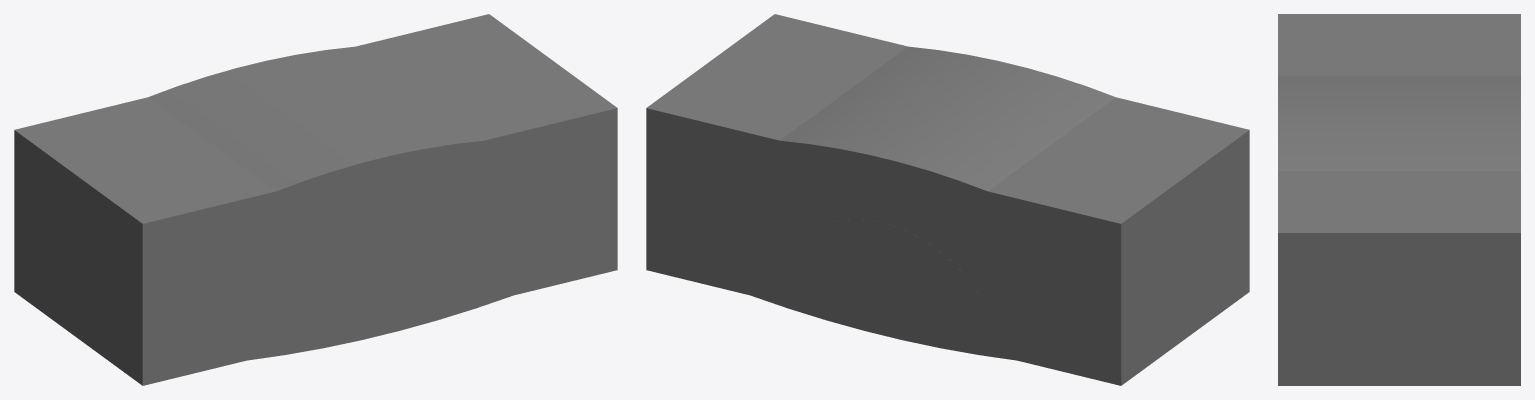
3 renders of one model, left to right at view 1: azimuth 30°, elevation 25°; view 2: azimuth 150°, elevation 25°; view 3: azimuth 270°, elevation 25°, orthographic. The views are drawn at different scales.
Visible parts, largest first — view 1: mesh_id4, mesh_id5; view 2: mesh_id4, mesh_id5; view 3: mesh_id4, mesh_id5.
Boxes of the visible parts, x1,y1,x2,y2 form: mesh_id4: (14, 14, 617, 385); mesh_id5: (148, 46, 513, 360); mesh_id4: (646, 14, 1249, 385); mesh_id5: (750, 46, 1115, 360); mesh_id4: (1278, 14, 1520, 385); mesh_id5: (1278, 75, 1520, 171).
Size of the model in its own units: 0.512 by 0.1826 by 0.24.
2 materials, 2 textured.
